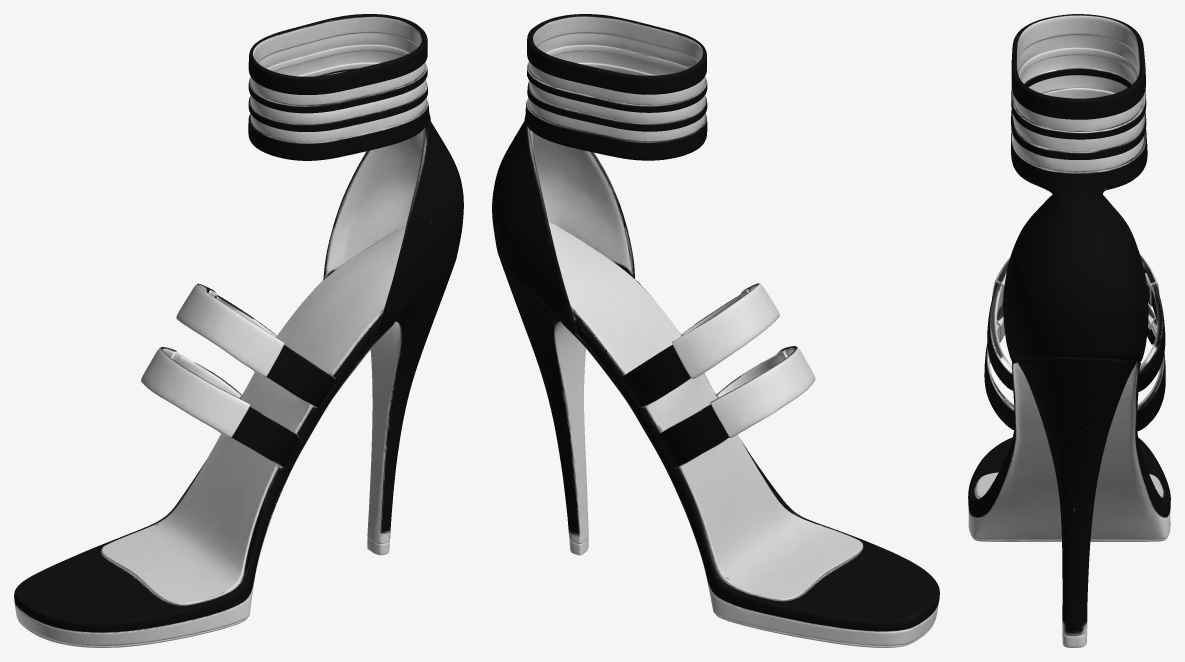
The model's file is adidas-model.glb.
3 views of the same model, side by side, from view 1: azimuth 30°, elevation 25°; view 2: azimuth 150°, elevation 25°; view 3: azimuth 270°, elevation 25° (orthographic). The views are drawn at different scales.
Bounding box in the file's own units: 1.66 × 1.9 × 0.6171.
Materials: 1 (1 with a texture image).
